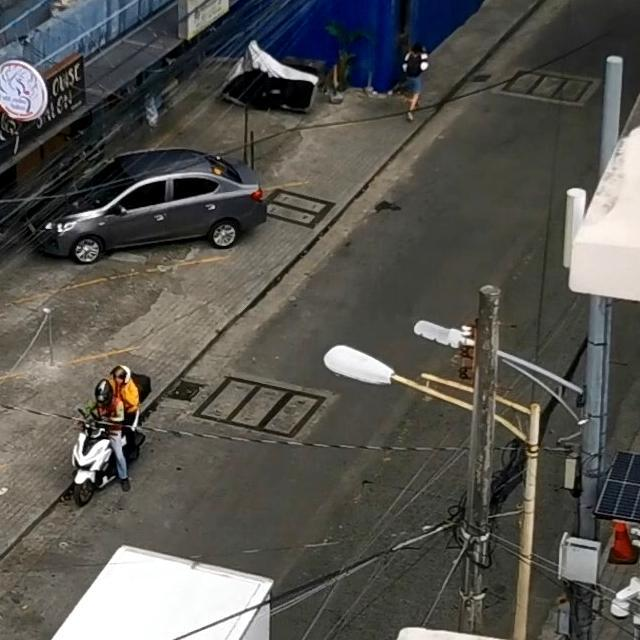Motorcycle: (66, 397, 144, 506)
